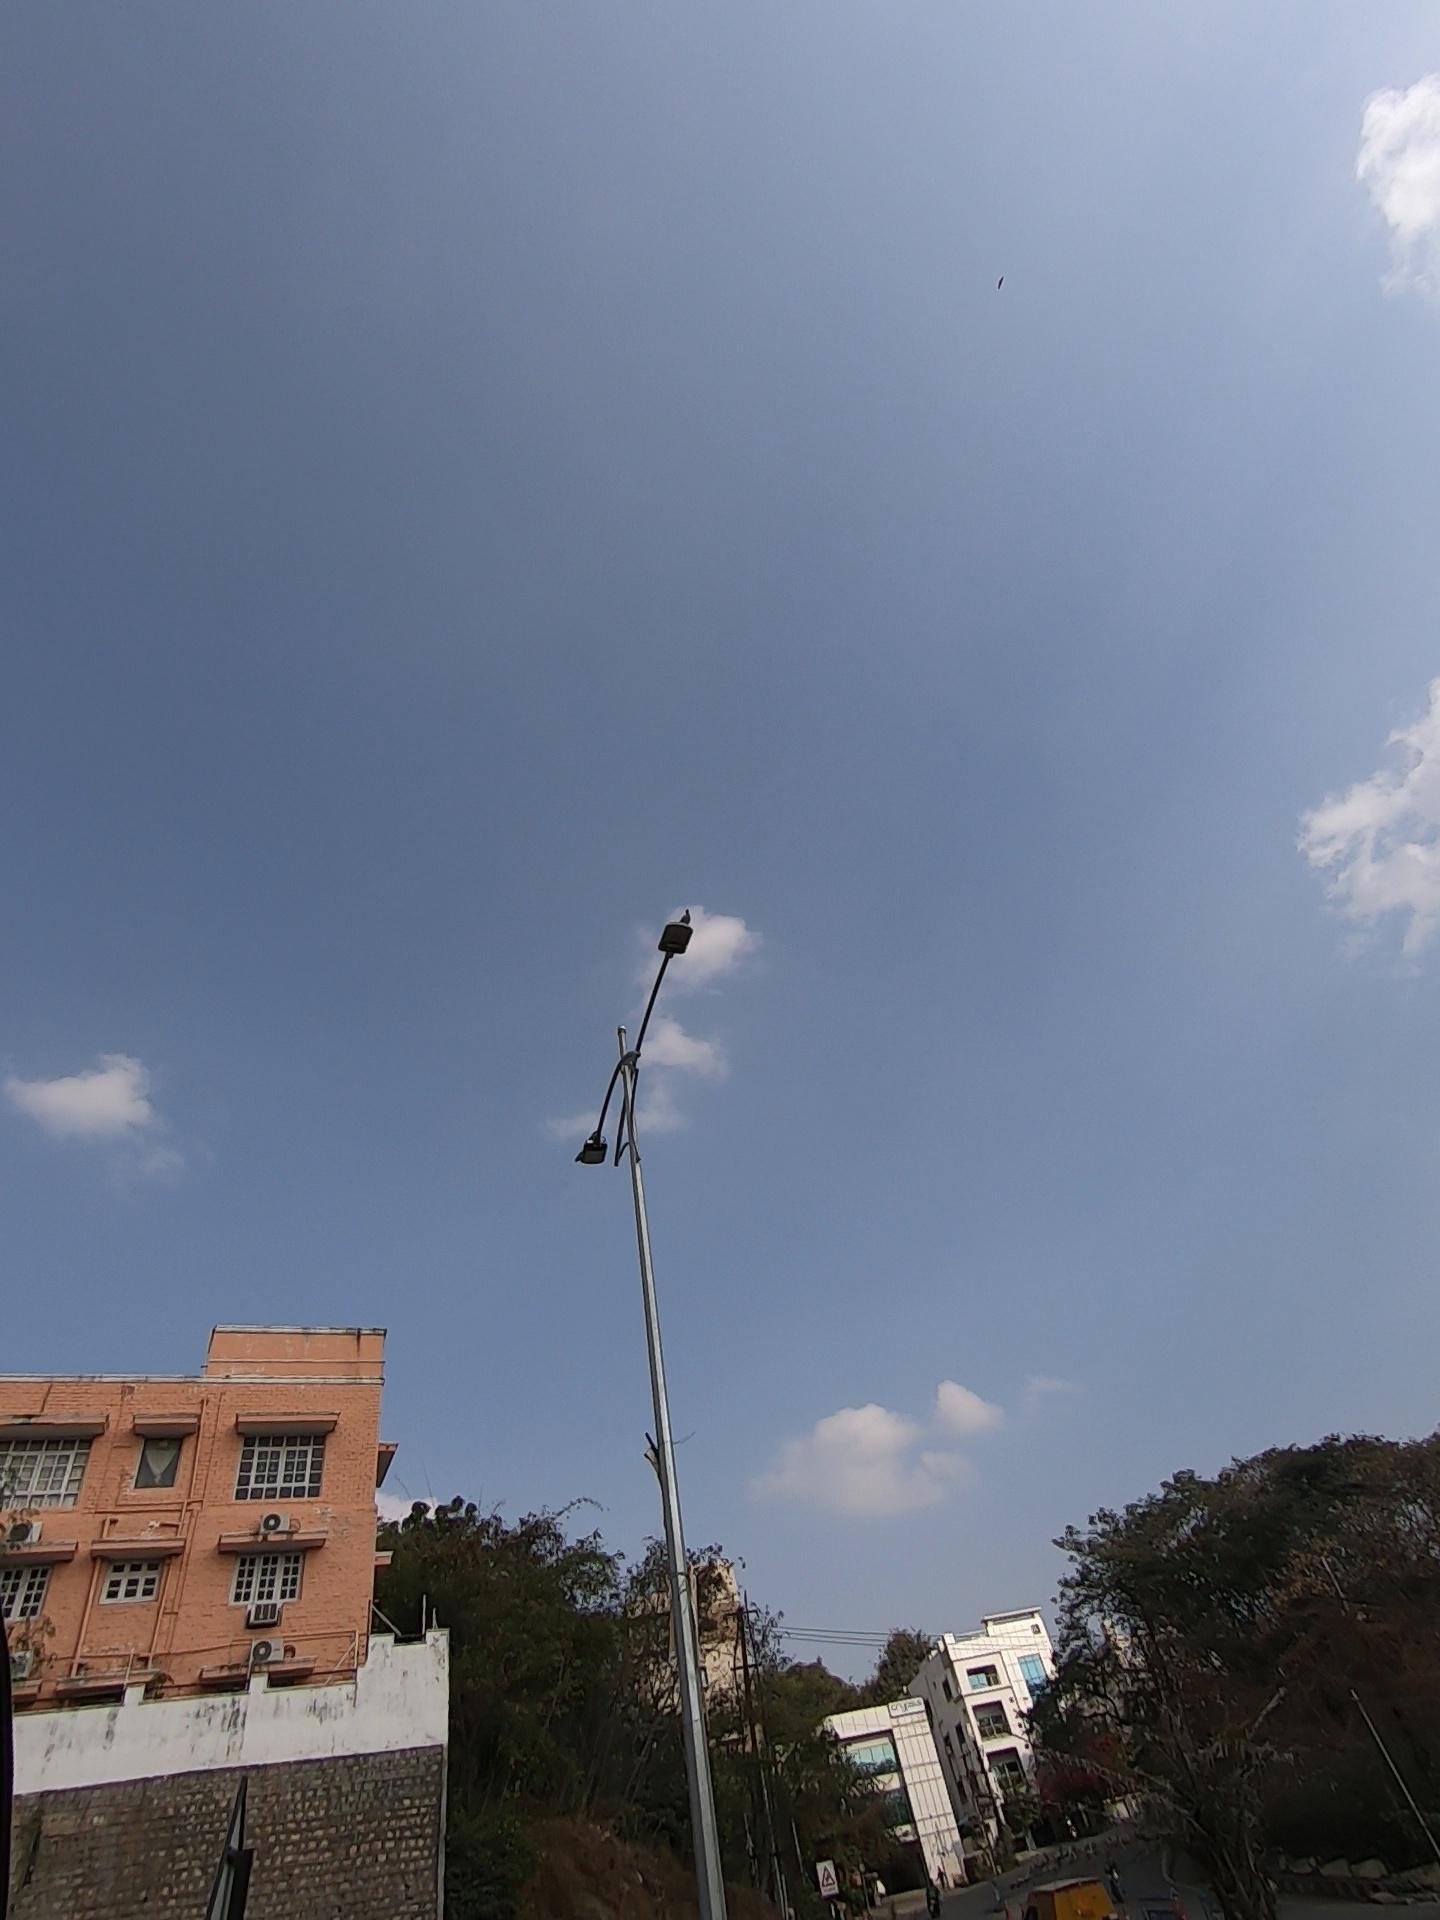off: (545, 851, 728, 1215)
